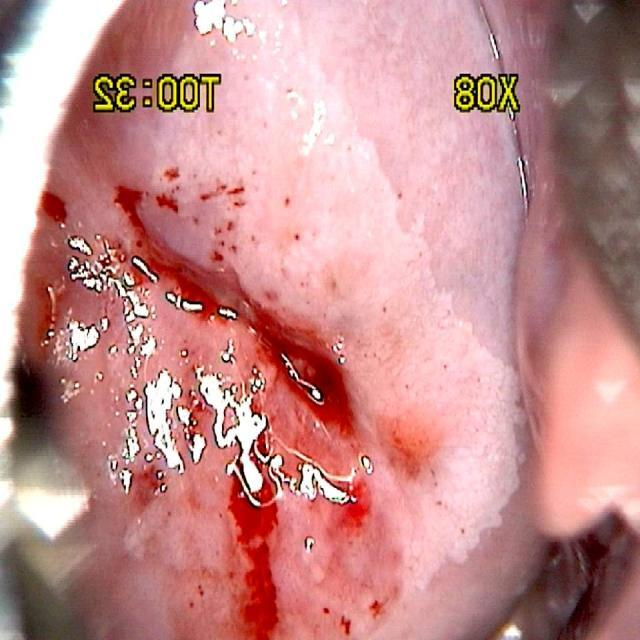cervical_lesion: (1, 101, 524, 635)
